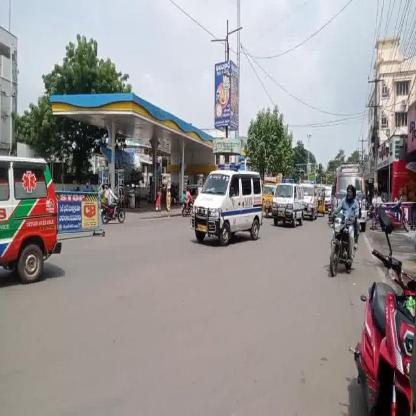priority: (0, 153, 62, 275), (190, 168, 262, 246), (272, 182, 304, 228), (334, 167, 366, 189)
